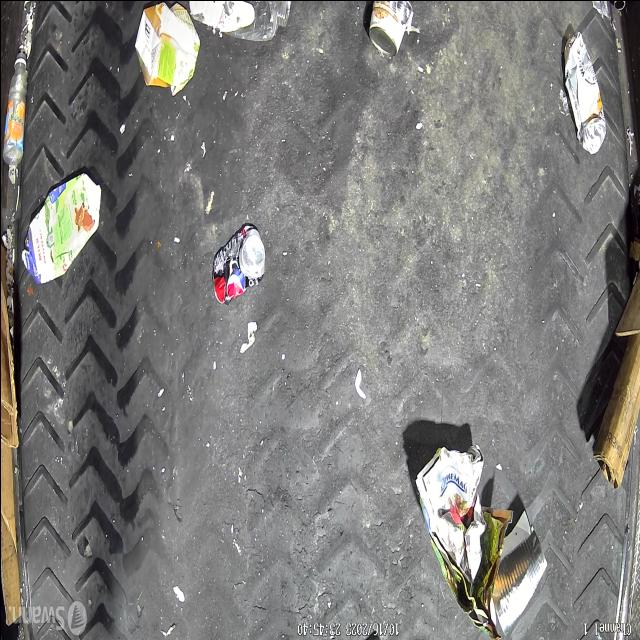can: (491, 528, 547, 638), (563, 30, 605, 155), (211, 222, 265, 304), (368, 0, 412, 55)
non_white_jug: (21, 172, 100, 283), (134, 0, 200, 96)
plastic_bottle: (188, 0, 290, 41), (1, 50, 26, 164)
